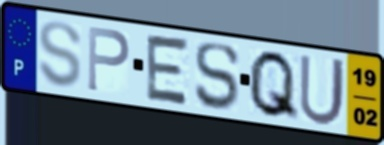E: (143, 32, 192, 109)
P: (86, 23, 132, 95)
Q: (246, 48, 302, 124)
S: (193, 41, 242, 112), (36, 19, 84, 91)
U: (297, 52, 348, 128)
